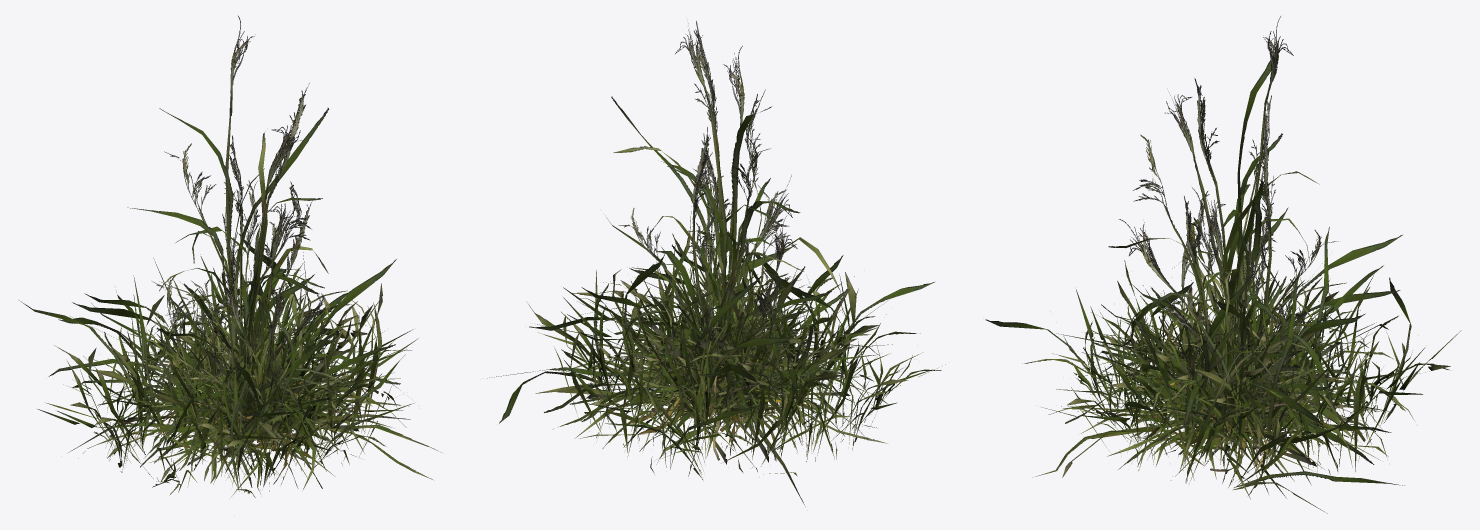
The model's file is ph-grass_medium_01-lod.glb.
The picture shows the model from 3 angles, left to right: view 1: azimuth 30°, elevation 25°; view 2: azimuth 150°, elevation 25°; view 3: azimuth 270°, elevation 25°; orthographic projection. The views are drawn at different scales.
Visible parts, largest first — view 1: large_a, large_b, mid_a, tall_b, tall_a, tall_c, mid_c, mid_b, small_a, small_b; view 2: large_a, large_b, mid_a, tall_a, tall_b, tall_c, mid_c, mid_b, small_a, small_b; view 3: large_a, large_b, mid_a, tall_a, tall_b, tall_c, mid_c, mid_b, small_a, small_b.
Boxes of the visible parts, x1,y1,x2,y2 form: large_a: [19, 222, 418, 497]; large_b: [48, 257, 441, 489]; mid_a: [68, 199, 410, 493]; tall_b: [157, 83, 328, 406]; tall_a: [127, 16, 328, 368]; tall_c: [152, 135, 370, 437]; mid_c: [154, 283, 400, 488]; mid_b: [113, 218, 367, 488]; small_a: [136, 268, 363, 487]; small_b: [119, 308, 357, 483]; large_a: [487, 206, 945, 480]; large_b: [535, 243, 887, 473]; mid_a: [575, 133, 850, 506]; tall_a: [608, 23, 800, 407]; tall_b: [613, 21, 842, 345]; tall_c: [644, 127, 808, 426]; mid_c: [544, 244, 837, 447]; mid_b: [576, 173, 847, 460]; small_a: [580, 217, 854, 442]; small_b: [616, 275, 844, 455]; large_a: [985, 207, 1461, 513]; large_b: [1032, 244, 1417, 499]; mid_a: [1085, 196, 1385, 466]; tall_a: [1108, 16, 1338, 409]; tall_b: [1122, 78, 1319, 360]; tall_c: [1118, 126, 1306, 427]; mid_c: [1093, 244, 1391, 498]; mid_b: [1065, 216, 1360, 486]; small_a: [1118, 262, 1353, 454]; small_b: [1100, 277, 1375, 460].
Size of the model in its own units: 0.3166 by 0.3418 by 0.3266.
1 material, 1 textured.
